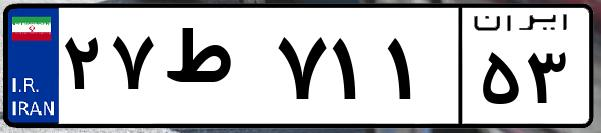1: (385, 28, 445, 110), (330, 28, 385, 110)
2: (57, 26, 110, 100)
3: (525, 38, 570, 115)
5: (475, 38, 525, 113)
7: (270, 28, 330, 110), (110, 28, 158, 98)
ط: (158, 20, 270, 120)
